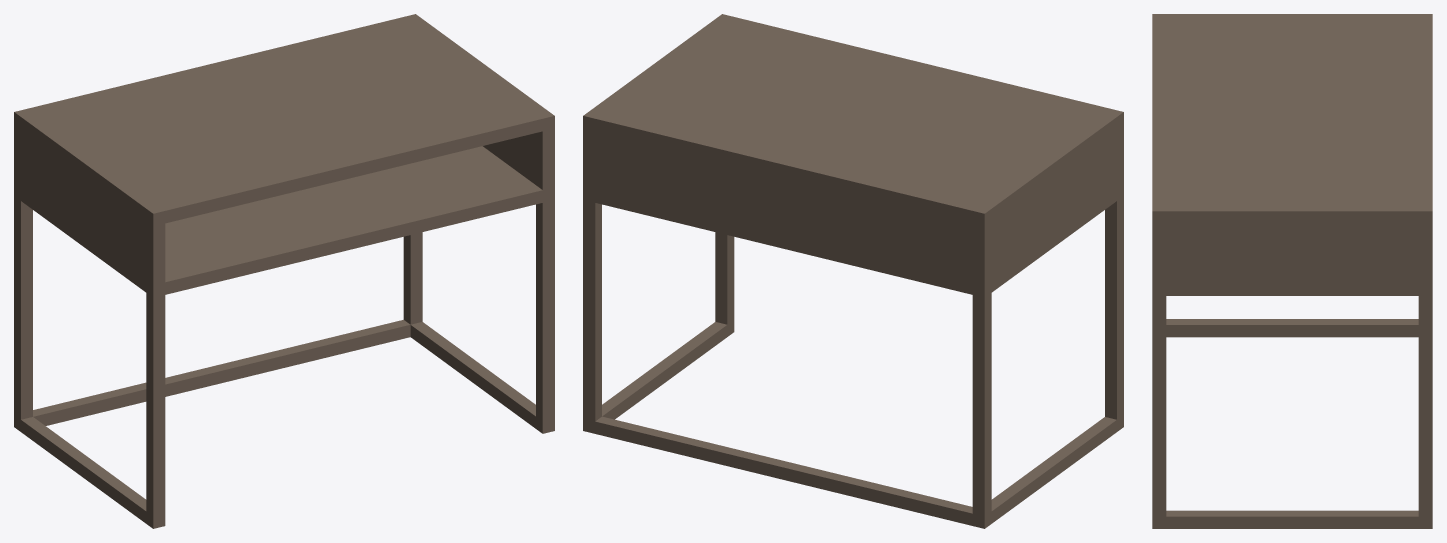
The model's file is PC_Table2_C3.fbx.
The picture shows the model from 3 angles, left to right: view 1: azimuth 30°, elevation 25°; view 2: azimuth 150°, elevation 25°; view 3: azimuth 270°, elevation 25°; orthographic projection.
Parts seen in each view (by area): view 1: PC_Table2_C3; view 2: PC_Table2_C3; view 3: PC_Table2_C3.
Part boxes in pixels (box(x1,y1,x2,y2)): PC_Table2_C3: box(14, 14, 554, 528); PC_Table2_C3: box(583, 14, 1123, 528); PC_Table2_C3: box(1152, 14, 1432, 528).
Bounding box in the file's own units: 100 × 75 × 60.
